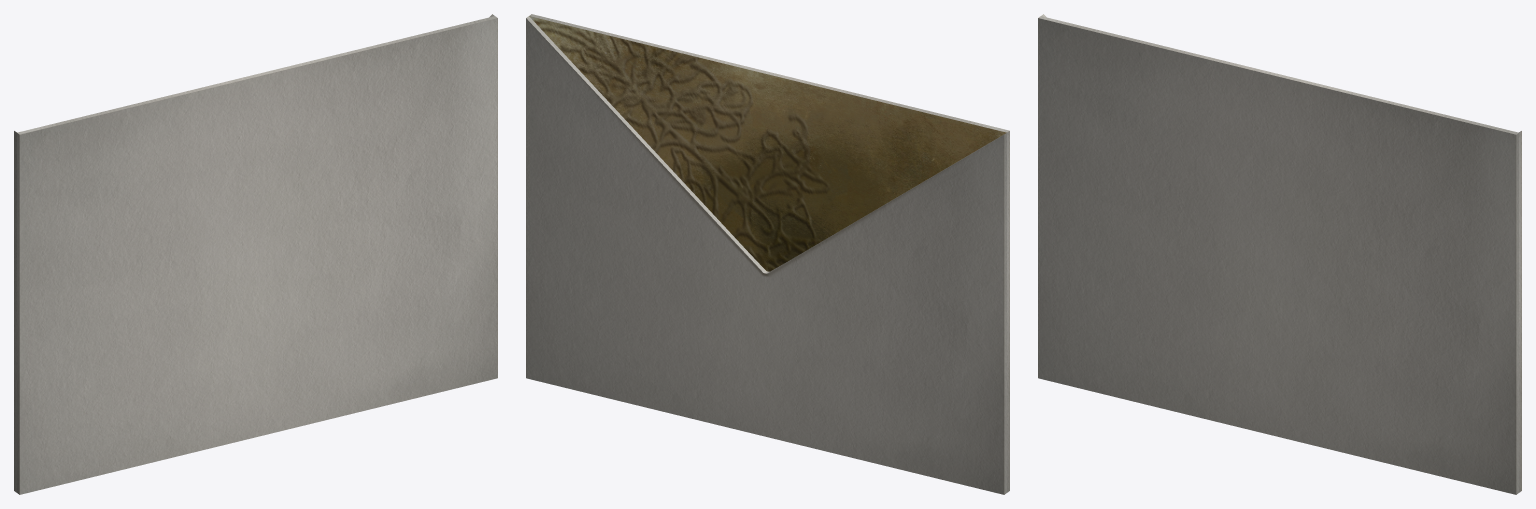
The model's file is Envelope-BAlBsQAG.glb.
3 views of the same model, side by side, from view 1: azimuth 30°, elevation 25°; view 2: azimuth 150°, elevation 25°; view 3: azimuth 330°, elevation 25° (orthographic).
Parts seen in each view (by area): view 1: grid1; view 2: grid1; view 3: grid1.
Boxes of the visible parts, x1,y1,x2,y2 form: grid1: (14,14,497,494); grid1: (526,14,1009,494); grid1: (1038,14,1521,494).
Size of the model in its own units: 1 by 0.72 by 0.02.
Materials: 3 (3 with a texture image).
